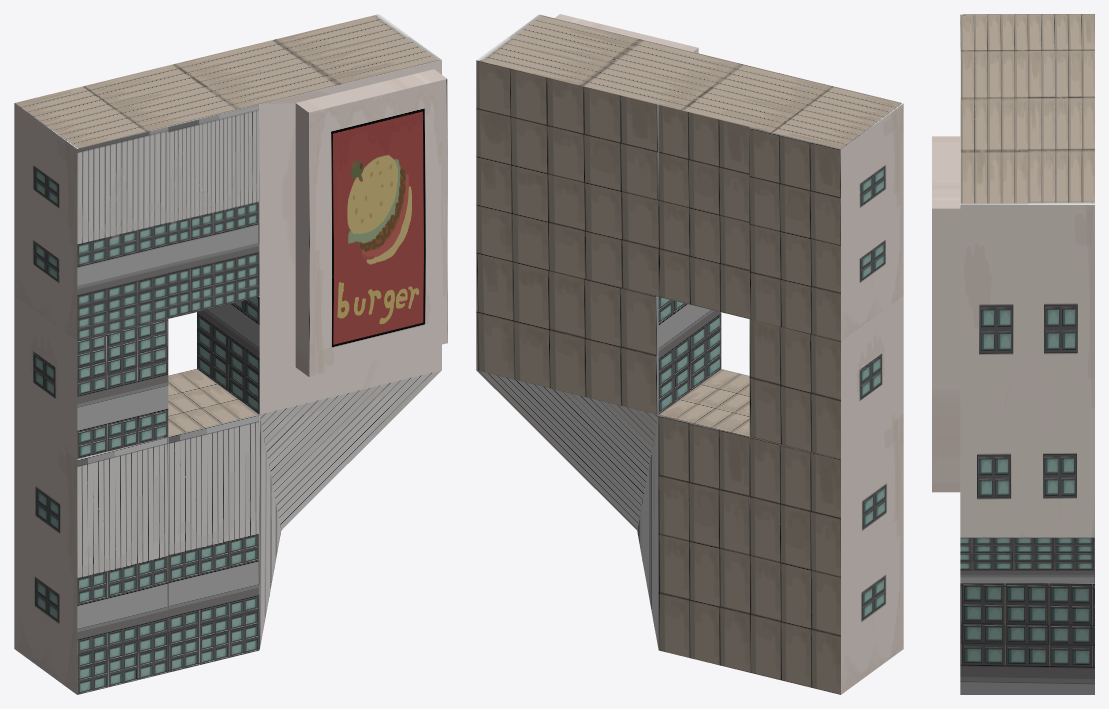
File: building3.glb
The picture shows the model from 3 angles, left to right: view 1: azimuth 30°, elevation 25°; view 2: azimuth 150°, elevation 25°; view 3: azimuth 270°, elevation 25°; orthographic projection. The views are drawn at different scales.
Parts seen in each view (by area): view 1: Cube; view 2: Cube; view 3: Cube.
Part boxes in pixels (x1,y1,x2,y2): Cube: (14,14,447,694); Cube: (476,14,903,694); Cube: (932,14,1094,694).
Size of the model in its own units: 6.72 by 9.6 by 2.42.
Materials: 1 (1 with a texture image).
